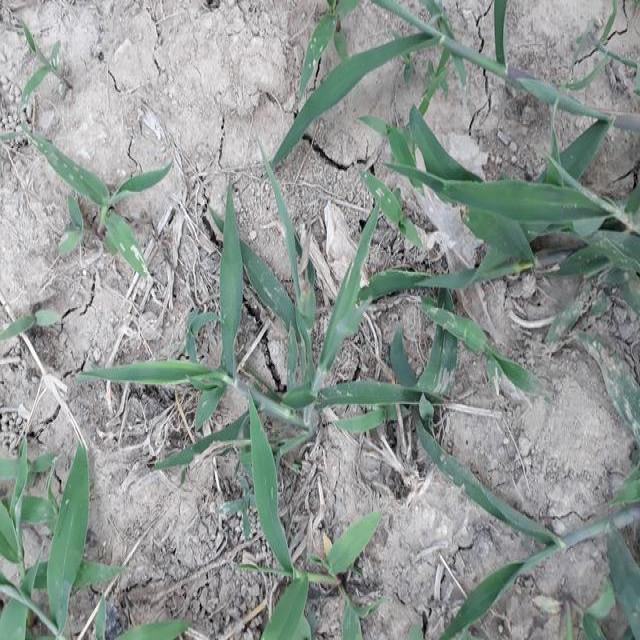weed: (205, 234, 457, 426), (457, 473, 640, 633), (397, 135, 638, 256), (234, 458, 376, 636), (28, 119, 170, 254), (3, 462, 86, 640)
